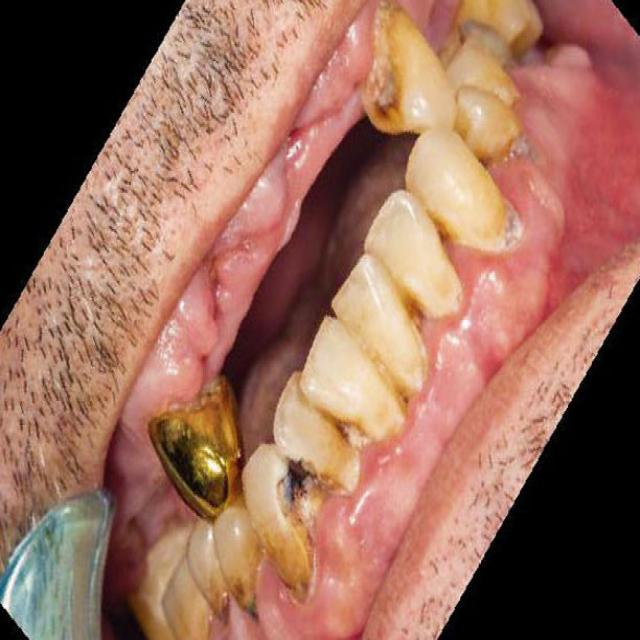caries: (270, 448, 318, 520), (367, 76, 416, 135)
